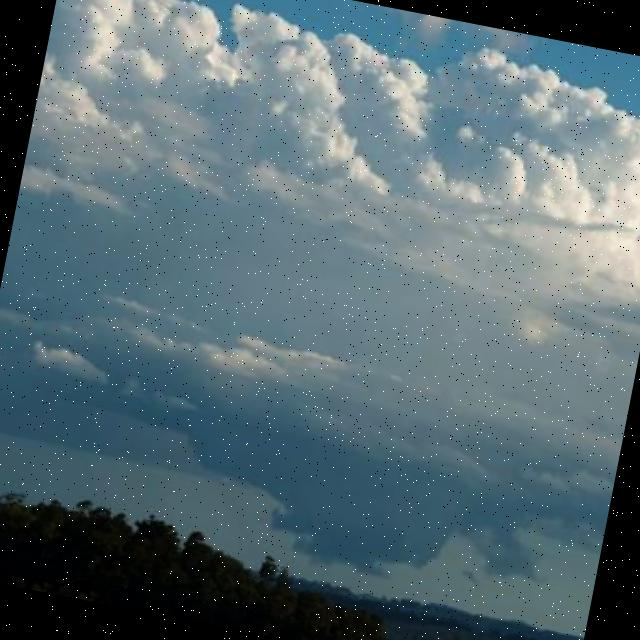Cu: (1, 1, 640, 512)
